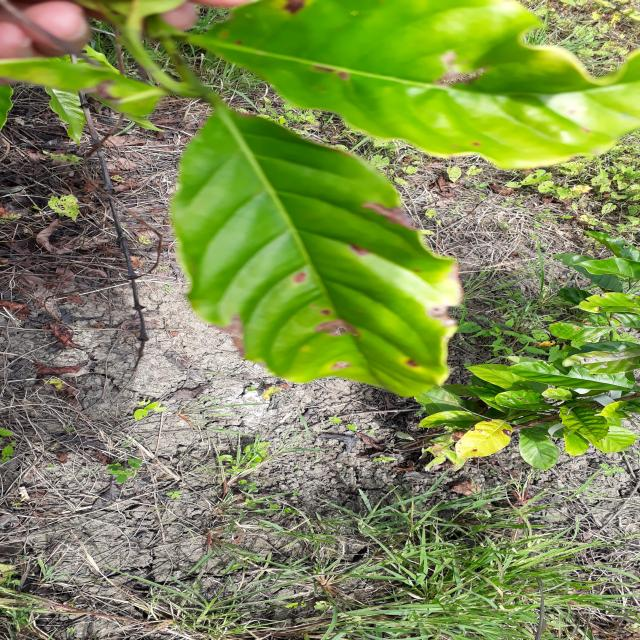Plaga-AranaRoja: (169, 103, 464, 404)
